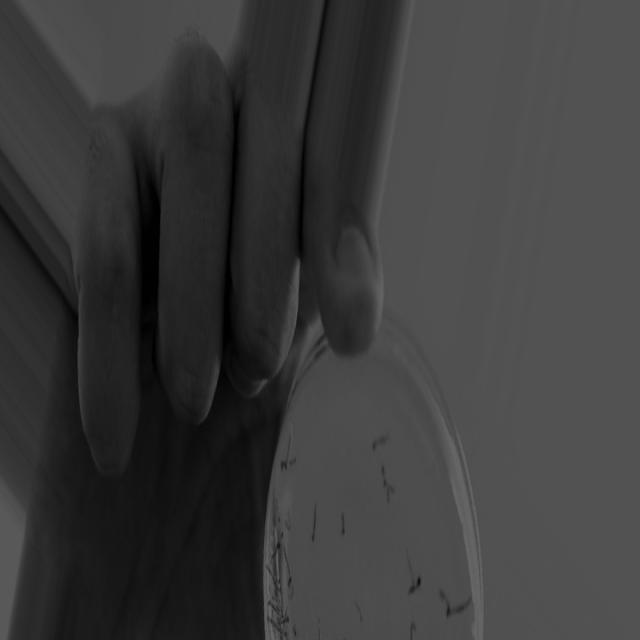larvas: (267, 582, 283, 611), (451, 596, 473, 616), (284, 427, 293, 470), (266, 563, 279, 591), (284, 541, 292, 583), (310, 501, 318, 541), (268, 616, 281, 635), (408, 577, 422, 594), (267, 598, 278, 619), (408, 554, 415, 586), (442, 590, 451, 614), (373, 437, 388, 449), (354, 604, 364, 622), (271, 542, 280, 560), (284, 510, 292, 530), (408, 619, 415, 640), (277, 616, 289, 628), (379, 466, 386, 484), (274, 500, 280, 521), (386, 487, 394, 502), (341, 515, 347, 535), (289, 584, 295, 601), (317, 618, 321, 640), (291, 623, 298, 635), (289, 455, 296, 467), (279, 459, 285, 472)
